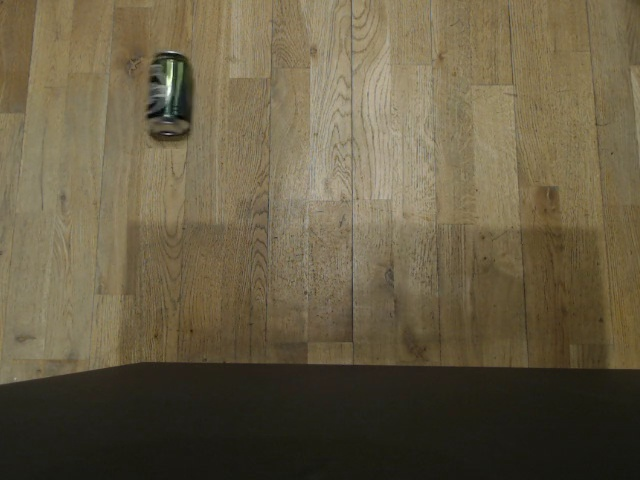beer: (141, 47, 196, 144)
